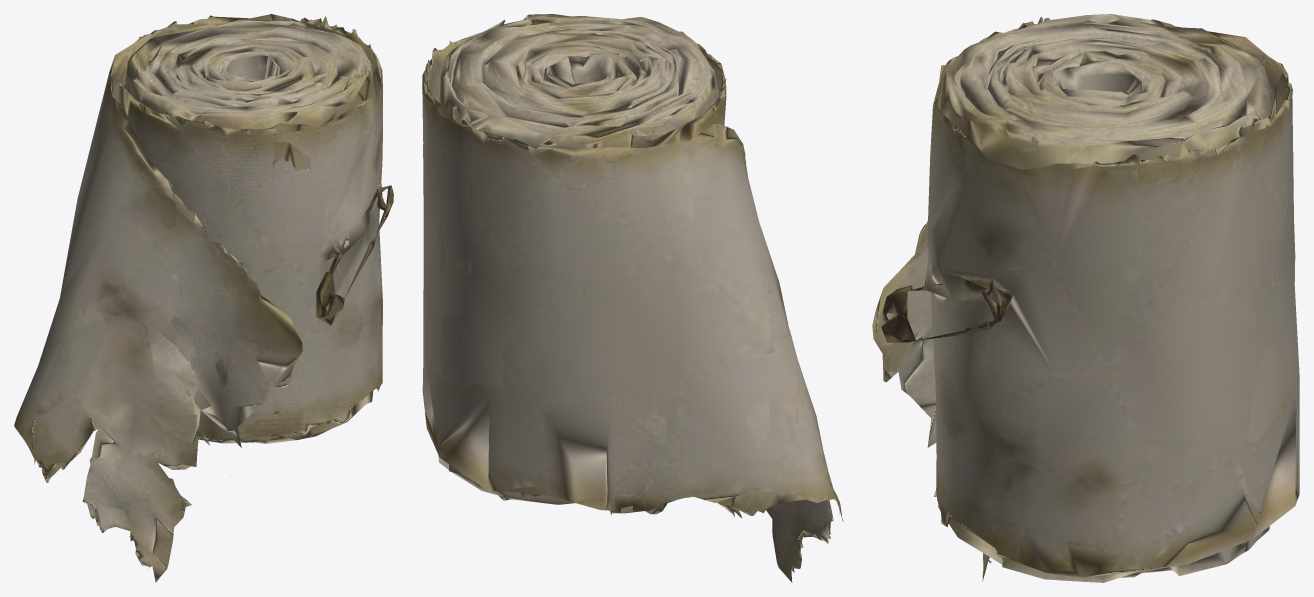
Rendered from bandage.glb.
3 renders of one model, left to right at view 1: azimuth 30°, elevation 25°; view 2: azimuth 150°, elevation 25°; view 3: azimuth 270°, elevation 25°, orthographic. The views are drawn at different scales.
Visible parts, largest first — view 1: item; view 2: item; view 3: item.
Part boxes in pixels (box(x1,y1,x2,y2)): item: box(14, 14, 393, 582); item: box(422, 14, 843, 582); item: box(872, 14, 1299, 582).
Size of the model in its own units: 0.063 by 0.0794 by 0.0514.
1 material, 1 textured.
